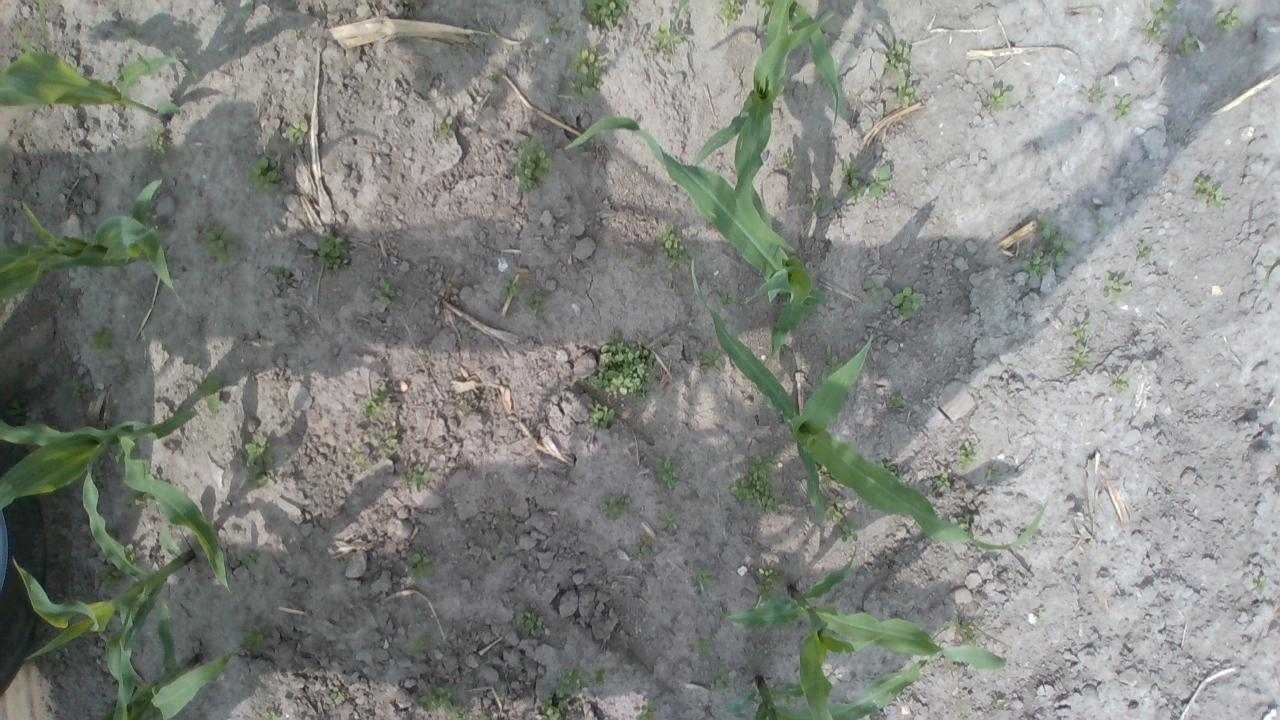Maize: (684, 251, 1050, 557), (561, 113, 830, 362), (12, 421, 196, 720), (696, 545, 1010, 720), (0, 403, 240, 600), (683, 0, 835, 239), (0, 175, 186, 305), (0, 20, 202, 123), (110, 597, 232, 720), (716, 652, 932, 720), (748, 0, 850, 108), (37, 0, 137, 53)
Weeds: (586, 332, 659, 404), (731, 451, 788, 518), (566, 42, 606, 106), (512, 137, 556, 193), (419, 684, 469, 720), (244, 437, 276, 492), (656, 223, 692, 270), (581, 0, 632, 32), (824, 498, 860, 542), (196, 371, 232, 414), (245, 156, 282, 194), (202, 226, 240, 263), (1066, 321, 1094, 368), (317, 231, 349, 272), (1192, 177, 1229, 212), (890, 285, 924, 321), (840, 158, 866, 204), (599, 487, 631, 522), (888, 74, 918, 110), (1020, 243, 1050, 278), (820, 343, 846, 383), (552, 667, 585, 698), (652, 455, 682, 489), (363, 384, 391, 420), (654, 23, 684, 56), (1212, 5, 1246, 34), (754, 566, 781, 602), (586, 400, 614, 432), (882, 40, 910, 72), (87, 325, 116, 354), (956, 440, 982, 472), (407, 552, 436, 580), (400, 465, 430, 492), (1149, 0, 1180, 26), (868, 164, 891, 198), (146, 122, 169, 156), (514, 612, 546, 636), (240, 622, 268, 649), (697, 348, 726, 374), (538, 695, 568, 720), (1100, 270, 1128, 296), (282, 118, 308, 145), (100, 568, 128, 593), (374, 278, 397, 308), (718, 0, 741, 29), (806, 188, 831, 214), (956, 619, 980, 646), (813, 462, 838, 487), (1080, 80, 1104, 106), (710, 666, 733, 693), (350, 443, 370, 474), (522, 294, 550, 316), (860, 279, 880, 308), (988, 87, 1011, 112), (693, 566, 715, 592), (1142, 22, 1168, 44), (147, 213, 173, 234), (129, 490, 159, 508), (882, 459, 903, 484), (1052, 238, 1070, 267), (636, 700, 662, 720), (1038, 212, 1058, 238), (1112, 94, 1132, 118), (436, 115, 455, 139), (1176, 35, 1196, 57), (695, 632, 713, 656), (634, 535, 652, 559), (986, 464, 1006, 485), (68, 377, 90, 396), (1112, 371, 1130, 394), (122, 542, 138, 567), (500, 278, 520, 298), (931, 468, 950, 489), (594, 664, 610, 686), (660, 510, 678, 529), (719, 286, 738, 304), (240, 550, 260, 566), (637, 254, 654, 272), (410, 636, 429, 652), (1253, 574, 1268, 594), (269, 265, 290, 279), (1035, 608, 1049, 629), (779, 152, 795, 170), (956, 512, 974, 528), (990, 692, 1006, 708), (124, 24, 140, 40), (1136, 241, 1151, 258), (475, 708, 496, 720), (461, 401, 476, 417), (387, 428, 401, 444), (751, 643, 767, 657), (1095, 218, 1109, 233), (890, 395, 906, 408), (260, 710, 280, 720), (240, 0, 254, 14), (496, 548, 508, 562), (616, 252, 632, 262), (331, 688, 344, 700), (547, 22, 560, 34), (487, 70, 501, 80), (290, 30, 298, 42), (944, 619, 952, 629), (1115, 412, 1124, 420)
